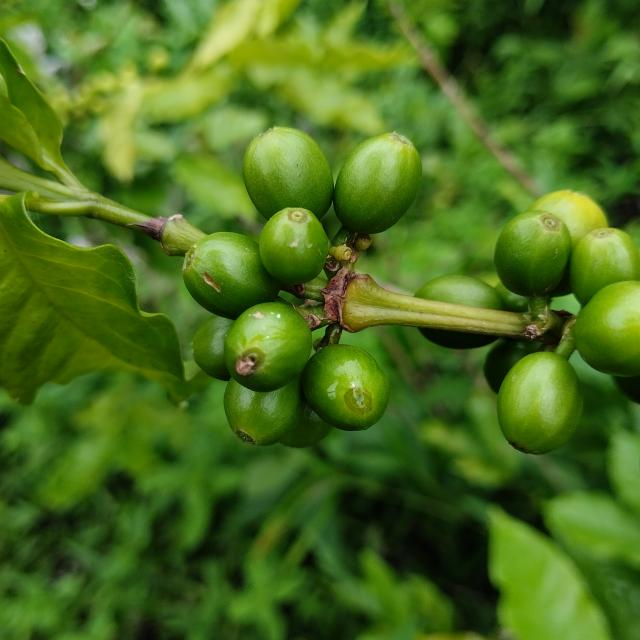green: (334, 132, 422, 234), (498, 352, 584, 455), (182, 232, 280, 320), (242, 126, 334, 219), (224, 302, 312, 392), (302, 345, 390, 431), (495, 210, 573, 297), (575, 280, 640, 377), (223, 376, 306, 446), (259, 207, 329, 285), (570, 228, 640, 306), (529, 190, 609, 247), (415, 275, 504, 310), (484, 339, 541, 393), (192, 315, 234, 381), (280, 404, 332, 448), (419, 328, 497, 349), (615, 376, 640, 404)
